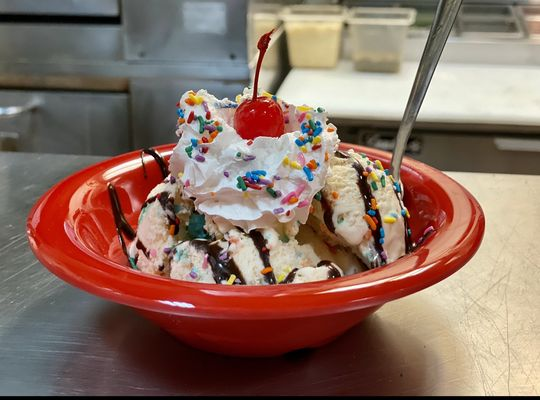burger: (385, 0, 461, 215)
sushi: (21, 112, 478, 358)
